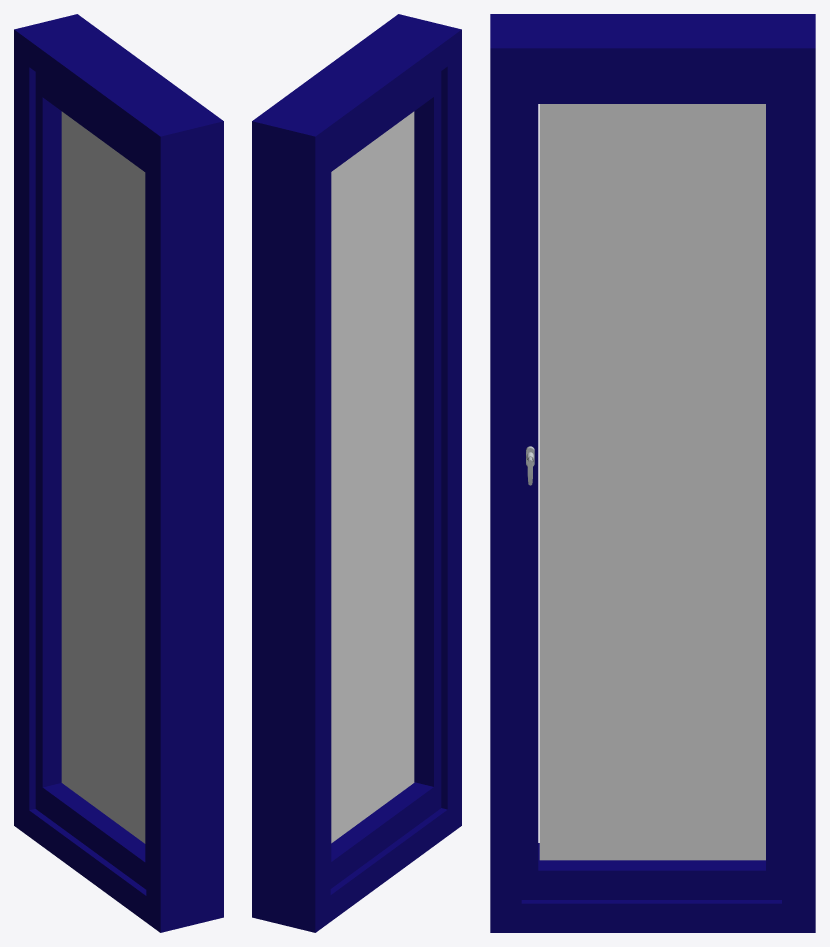
The model's file is window_v2.fbx.
The picture shows the model from 3 angles, left to right: view 1: azimuth 30°, elevation 25°; view 2: azimuth 150°, elevation 25°; view 3: azimuth 270°, elevation 25°; orthographic projection. The views are drawn at different scales.
Parts seen in each view (by area): view 1: Window Frame, Window, Window door; view 2: Window Frame, Window, Window door; view 3: Window, Window Frame, Window door.
Boxes of the visible parts, x1,y1,x2,y2 form: Window Frame: [14, 14, 223, 932]; Window: [61, 111, 145, 843]; Window door: [35, 72, 146, 889]; Window Frame: [252, 14, 461, 932]; Window: [331, 111, 414, 843]; Window door: [330, 71, 441, 888]; Window: [539, 104, 765, 860]; Window Frame: [490, 14, 815, 932]; Window door: [521, 78, 781, 899].
Bounding box in the file's own units: 53.66 × 600 × 200.
